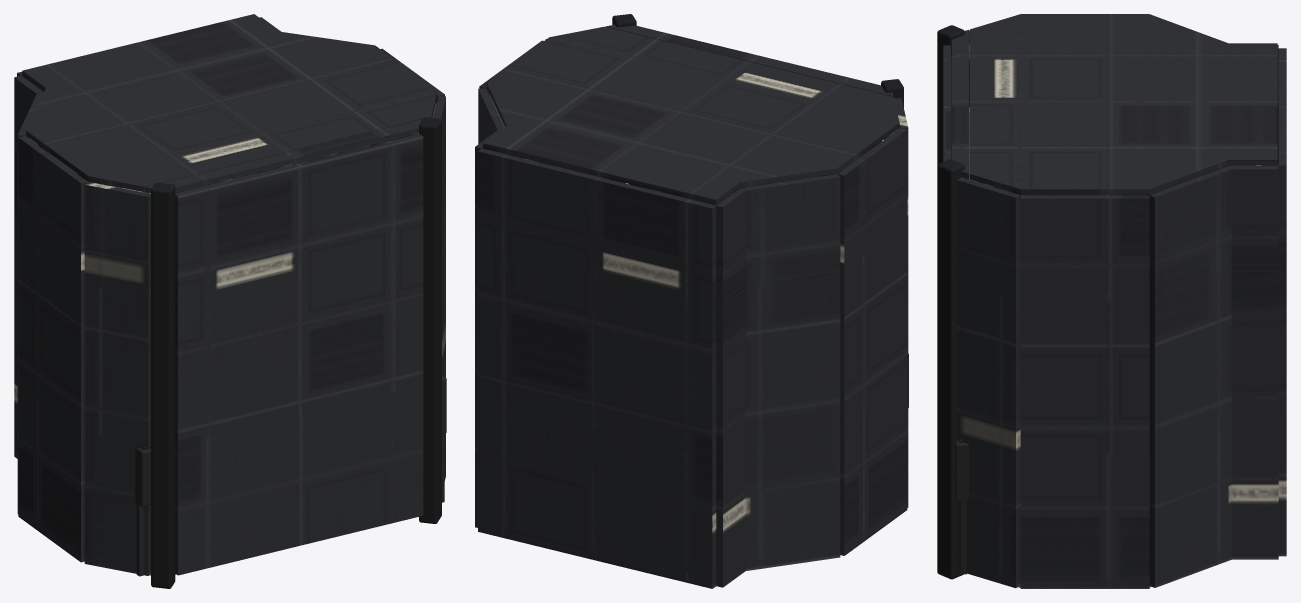
Rendered from cockpit_octagon.gltf.
3 views of the same model, side by side, from view 1: azimuth 30°, elevation 25°; view 2: azimuth 150°, elevation 25°; view 3: azimuth 270°, elevation 25° (orthographic). The views are drawn at different scales.
Parts seen in each view (by area): view 1: INNER_front_1_cabin, pod_cabin, INNER_wing_r_1_cabin, CONSOLE_front_front, INNER_wing_l_1_cabin; view 2: pod_cabin, INNER_wing_r_1_cabin, INNER_front_1_cabin; view 3: pod_cabin, INNER_wing_l_1_cabin, INNER_front_1_cabin, CONSOLE_front_front.
Boxes of the visible parts, x1,y1,x2,y2 form: INNER_front_1_cabin: (145, 117, 431, 575); pod_cabin: (14, 14, 445, 588); INNER_wing_r_1_cabin: (18, 136, 150, 565); CONSOLE_front_front: (135, 375, 446, 576); INNER_wing_l_1_cabin: (369, 48, 445, 470); pod_cabin: (475, 14, 908, 588); INNER_wing_r_1_cabin: (838, 98, 908, 545); INNER_front_1_cabin: (606, 24, 893, 187); pod_cabin: (937, 14, 1286, 588); INNER_wing_l_1_cabin: (957, 177, 1149, 578); INNER_front_1_cabin: (943, 29, 1001, 189); CONSOLE_front_front: (955, 439, 968, 574).
Bounding box in the file's own units: 2.18 × 2.28 × 1.76.
Materials: 9 (8 with a texture image).
